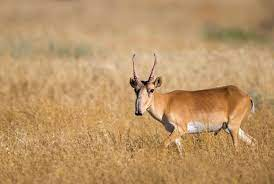saiga: (128, 50, 262, 155)
